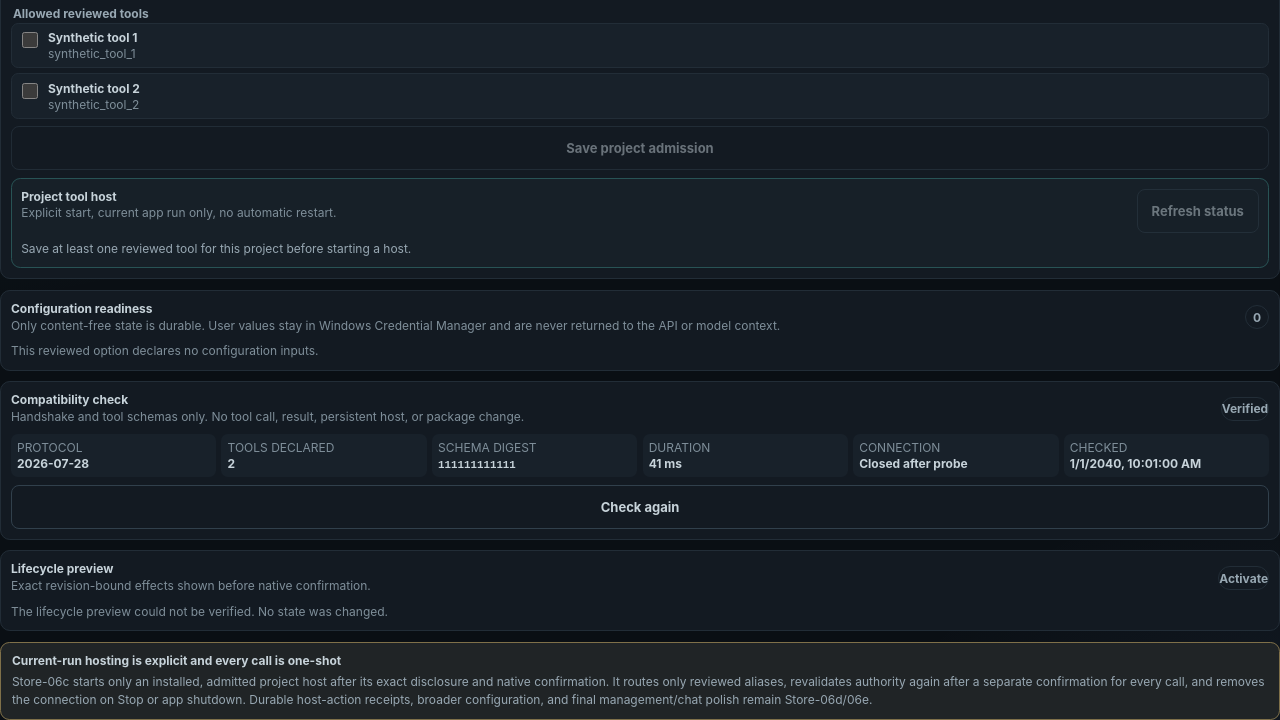
AgentMcpManagedPlanView project authority › explains a local process-output refusal without exposing process content
(page scrolled)
Step 1. Click the button "Check again" → coordinates (640, 507), box [11,485,1269,529]
(page scrolled)
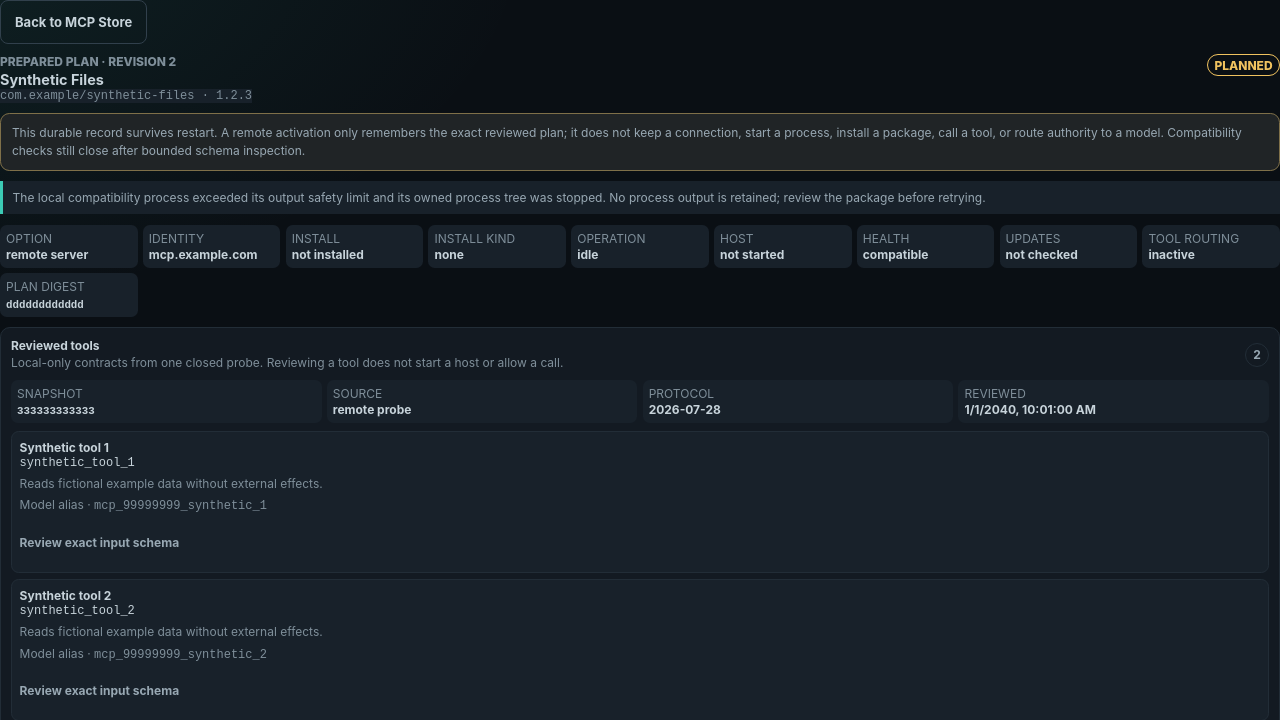
Now the text "owned process tree was stopped" is shown, box [13,190,986,205]
